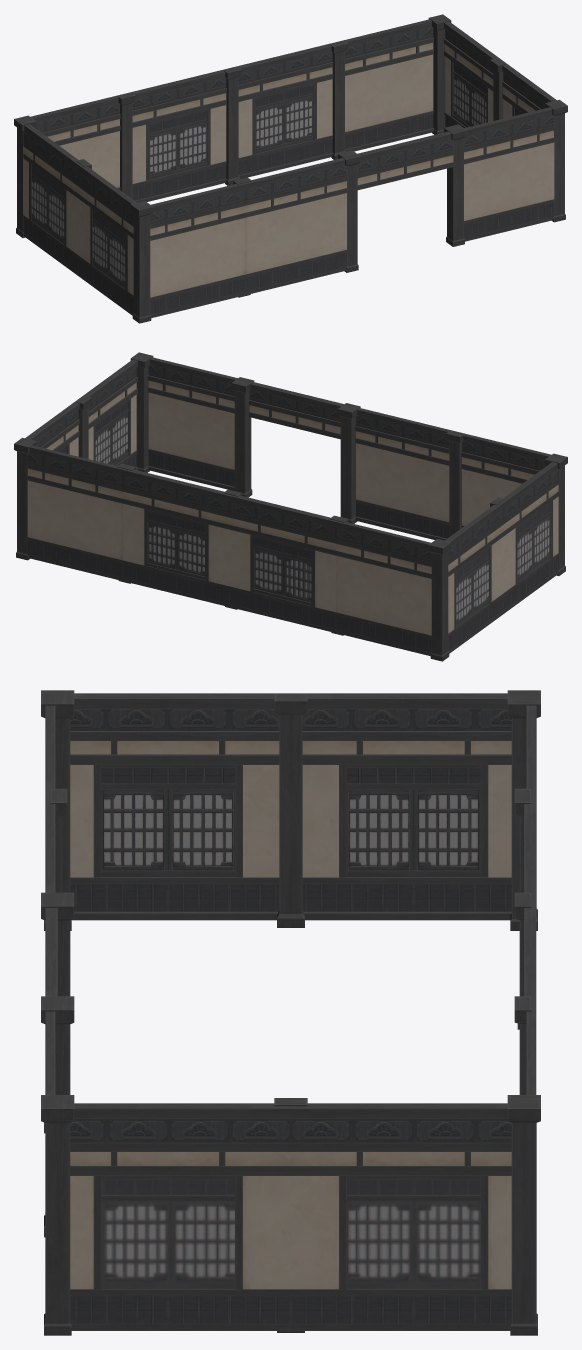
Rendered from Homeworld_Interior_Dq_Room_M_Wall_01_Vo.fbx.
3 renders of one model, top to bottom at view 1: azimuth 30°, elevation 25°; view 2: azimuth 150°, elevation 25°; view 3: azimuth 270°, elevation 25°, orthographic. The views are drawn at different scales.
Visible parts, largest first — view 1: Homeworld_Interior_Dq_Room_Wall_01_Vo (×5), Homeworld_Interior_Dq_Room_Wall_02_Vo (×6), Homeworld_Interior_Dq_Room_Pillar_01_Vo (×6), Homeworld_Interior_Dq_Room_Pillar_02_Vo (×4), Homeworld_Interior_Dq_Room_M_Filling_01_Vo, Homeworld_Interior_Dq_Room_Wall_04_Vo; view 2: Homeworld_Interior_Dq_Room_Wall_01_Vo (×5), Homeworld_Interior_Dq_Room_Wall_02_Vo (×6), Homeworld_Interior_Dq_Room_Pillar_01_Vo (×6), Homeworld_Interior_Dq_Room_M_Filling_01_Vo, Homeworld_Interior_Dq_Room_Wall_04_Vo, Homeworld_Interior_Dq_Room_Pillar_02_Vo (×2); view 3: Homeworld_Interior_Dq_Room_Wall_02_Vo (×6), Homeworld_Interior_Dq_Room_M_Filling_01_Vo, Homeworld_Interior_Dq_Room_Pillar_01_Vo (×6), Homeworld_Interior_Dq_Room_Pillar_02_Vo (×5), Homeworld_Interior_Dq_Room_Wall_01_Vo (×5), Homeworld_Interior_Dq_Room_Wall_04_Vo.
Part boxes in pixels (<box>): Homeworld_Interior_Dq_Room_Wall_01_Vo (×5): <box>30,19,554,317</box>; Homeworld_Interior_Dq_Room_Wall_02_Vo (×6): <box>23,21,556,315</box>; Homeworld_Interior_Dq_Room_Pillar_01_Vo (×6): <box>14,14,567,323</box>; Homeworld_Interior_Dq_Room_Pillar_02_Vo (×4): <box>117,40,505,198</box>; Homeworld_Interior_Dq_Room_M_Filling_01_Vo: <box>31,166,125,289</box>; Homeworld_Interior_Dq_Room_Wall_04_Vo: <box>357,131,453,190</box>; Homeworld_Interior_Dq_Room_Wall_01_Vo (×5): <box>27,357,551,655</box>; Homeworld_Interior_Dq_Room_Wall_02_Vo (×6): <box>25,359,558,653</box>; Homeworld_Interior_Dq_Room_Pillar_01_Vo (×6): <box>14,352,567,661</box>; Homeworld_Interior_Dq_Room_M_Filling_01_Vo: <box>149,504,550,627</box>; Homeworld_Interior_Dq_Room_Wall_04_Vo: <box>249,382,343,439</box>; Homeworld_Interior_Dq_Room_Pillar_02_Vo (×2): <box>76,396,464,536</box>; Homeworld_Interior_Dq_Room_Wall_02_Vo (×6): <box>70,693,536,1330</box>; Homeworld_Interior_Dq_Room_M_Filling_01_Vo: <box>101,1180,480,1288</box>; Homeworld_Interior_Dq_Room_Pillar_01_Vo (×6): <box>41,690,540,1335</box>; Homeworld_Interior_Dq_Room_Pillar_02_Vo (×5): <box>50,694,531,1094</box>; Homeworld_Interior_Dq_Room_Wall_01_Vo (×5): <box>45,705,536,1094</box>; Homeworld_Interior_Dq_Room_Wall_04_Vo: <box>45,908,57,996</box>.
Size of what is drawn, in the model's own units: 20.18 by 5.12 by 10.18.
